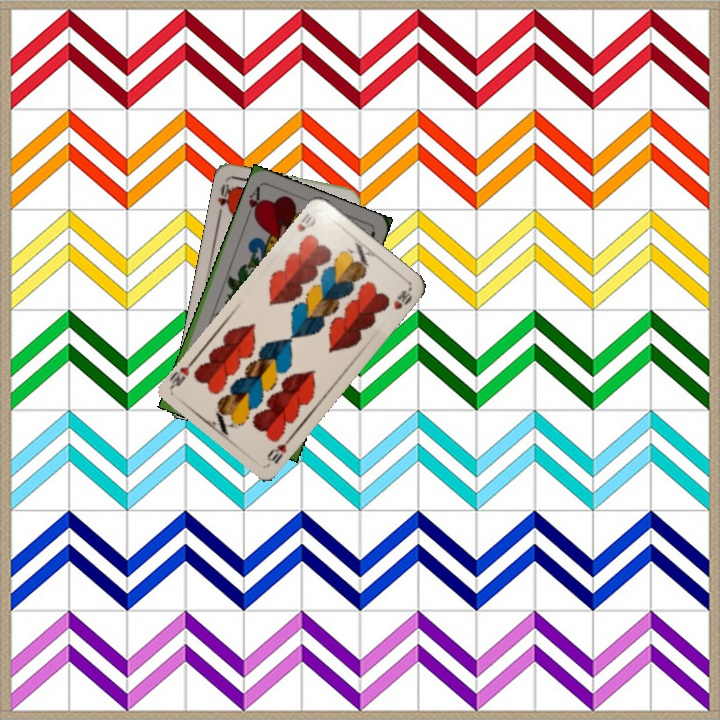H10: (263, 432, 295, 466), (293, 209, 319, 235)
HA: (242, 182, 265, 222)
HO: (214, 179, 235, 218)
